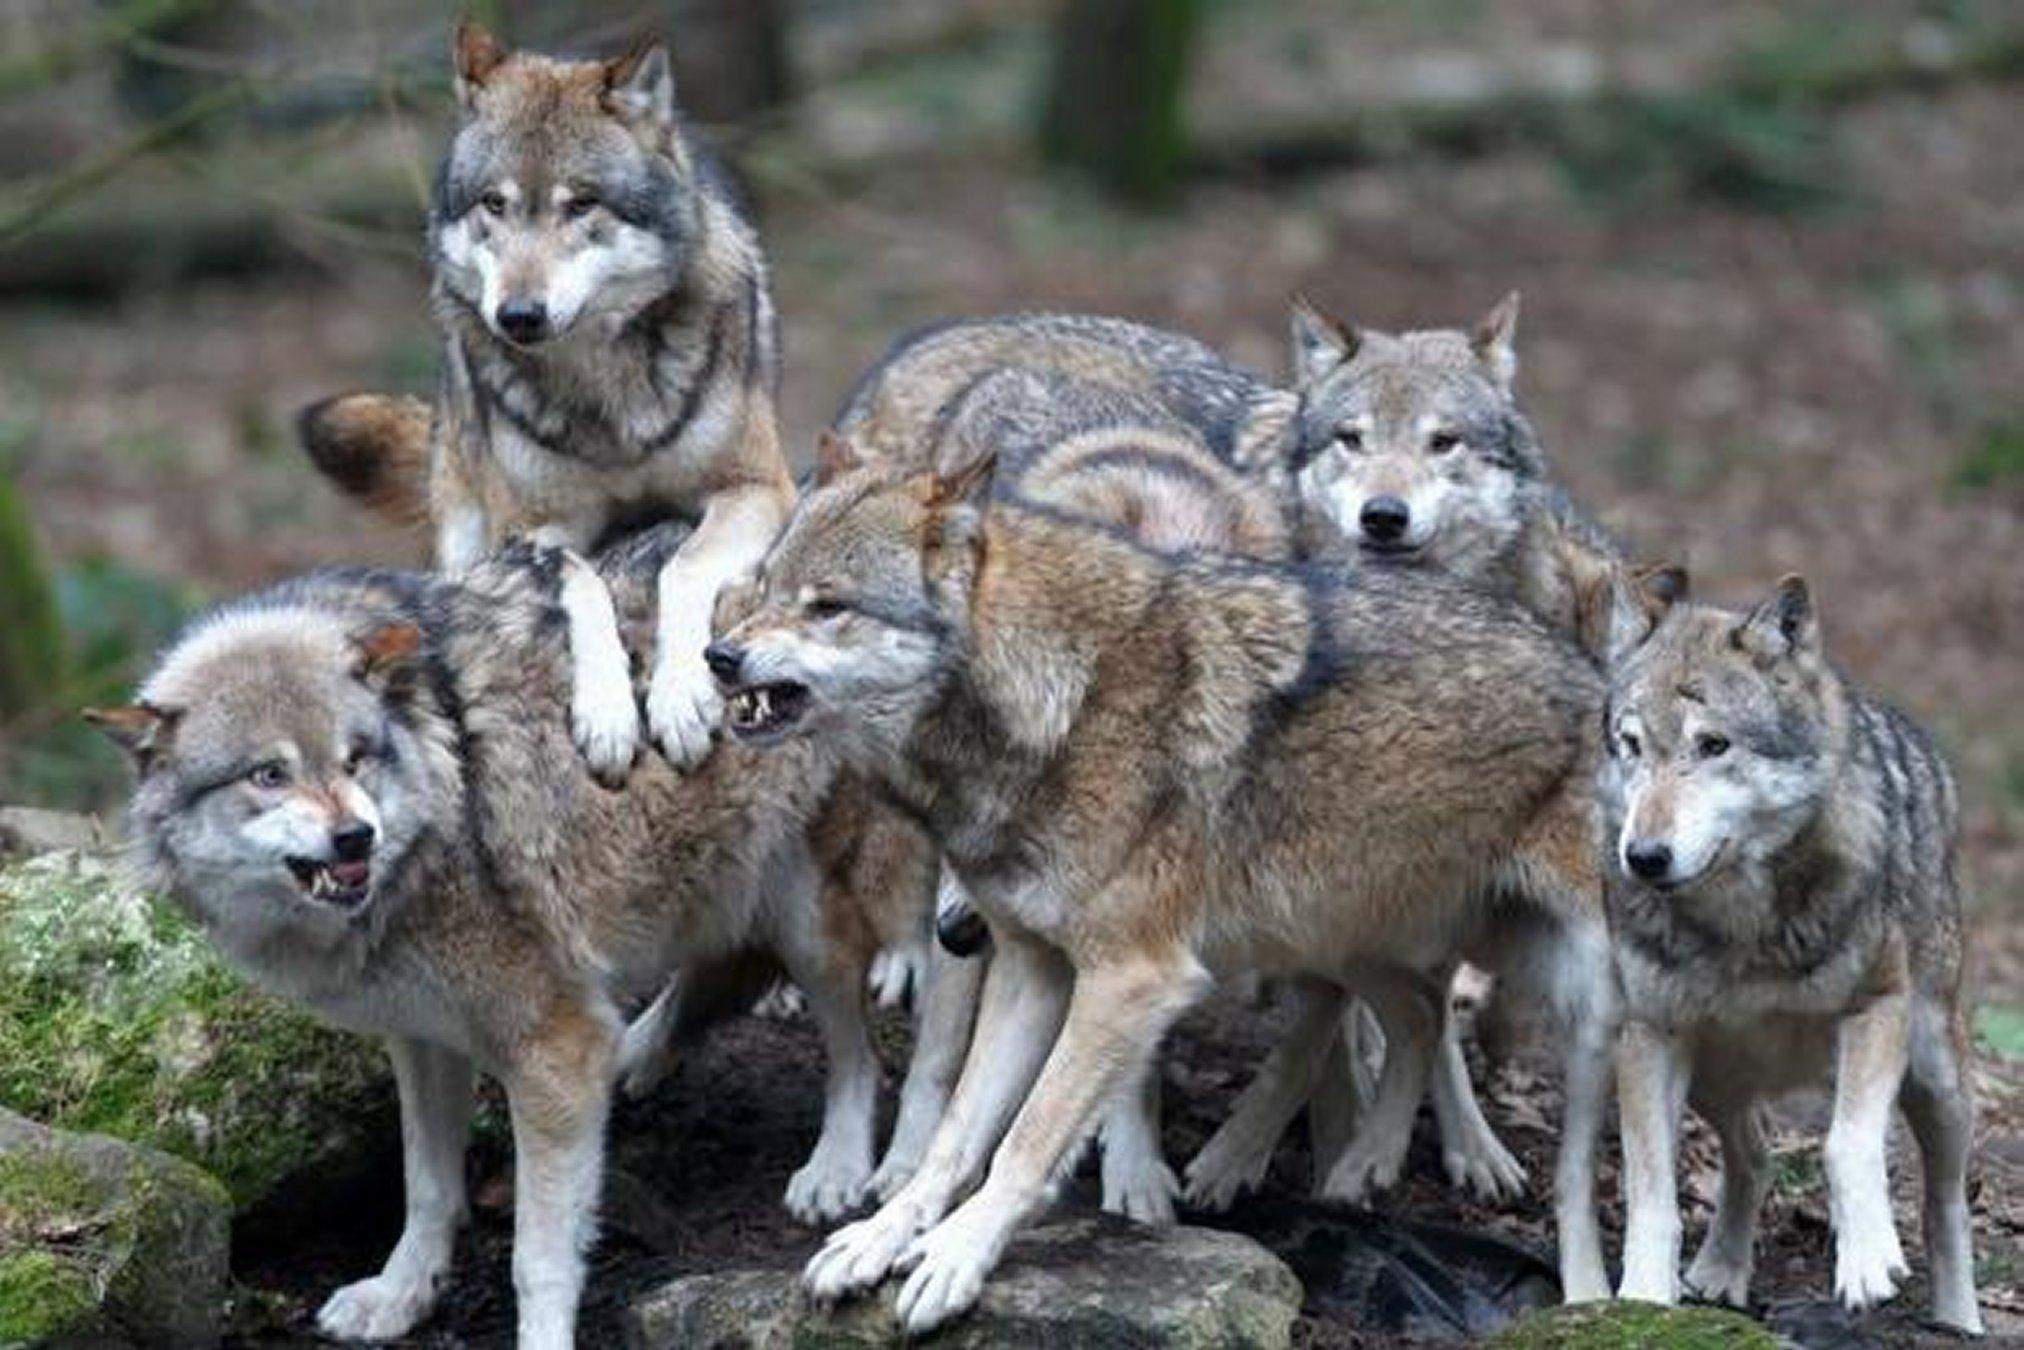Lobo: (753, 452, 1581, 1249), (48, 532, 742, 1302), (1553, 524, 2003, 1336), (392, 14, 889, 728), (1248, 316, 1548, 609)
